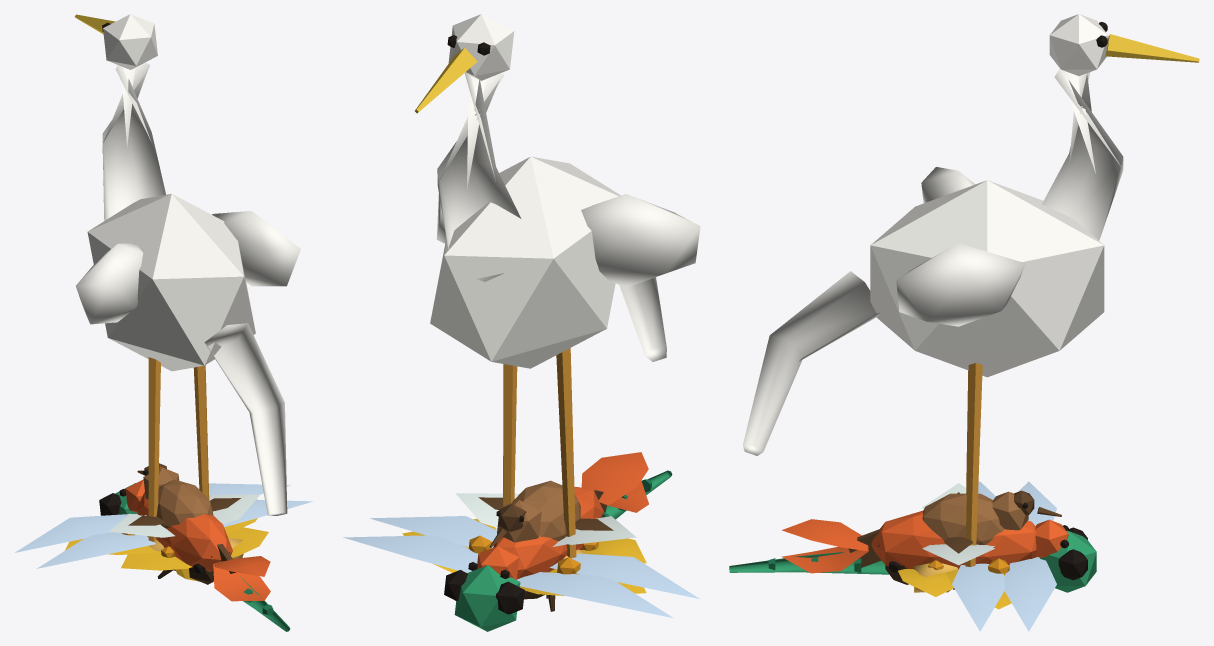
The model's file is critters-ad64ab108c.glb.
3 views of the same model, side by side, from view 1: azimuth 30°, elevation 25°; view 2: azimuth 150°, elevation 25°; view 3: azimuth 270°, elevation 25° (orthographic). The views are drawn at different scales.
Parts seen in each view (by area): view 1: critter__co_trang__mac_dinh, sway_0.12, sway_1.1, critter__ca_chep__mac_dinh, critter__chim_se__mac_dinh, sway_0.75, sway_0.7, sway_0.9, critter__chuon_chuon__mac_dinh, critter__ong__mac_dinh, sway_0.5; view 2: critter__co_trang__mac_dinh, sway_1.1, sway_0.12, critter__chuon_chuon__mac_dinh, critter__chim_se__mac_dinh, critter__ca_chep__mac_dinh, sway_0.7, sway_0.75, sway_0.9, sway_0.5; view 3: critter__co_trang__mac_dinh, sway_0.12, critter__ca_chep__mac_dinh, sway_1.1, critter__chim_se__mac_dinh, critter__chuon_chuon__mac_dinh, sway_0.7, sway_0.75, sway_0.9.
Part boxes in pixels (<box>): critter__co_trang__mac_dinh: <box>74,14,287,541</box>; sway_0.12: <box>76,211,300,324</box>; sway_1.1: <box>15,483,312,568</box>; critter__ca_chep__mac_dinh: <box>119,467,243,571</box>; critter__chim_se__mac_dinh: <box>137,463,235,573</box>; sway_0.75: <box>65,499,268,570</box>; sway_0.7: <box>213,556,270,601</box>; sway_0.9: <box>109,494,260,537</box>; critter__chuon_chuon__mac_dinh: <box>99,483,290,631</box>; critter__ong__mac_dinh: <box>157,563,213,584</box>; sway_0.5: <box>128,498,240,525</box>; critter__co_trang__mac_dinh: <box>415,14,666,558</box>; sway_1.1: <box>343,516,699,618</box>; sway_0.12: <box>436,194,700,287</box>; critter__chuon_chuon__mac_dinh: <box>444,470,672,631</box>; critter__chim_se__mac_dinh: <box>489,480,606,547</box>; critter__ca_chep__mac_dinh: <box>468,486,603,579</box>; sway_0.7: <box>581,452,648,512</box>; sway_0.75: <box>402,518,646,595</box>; sway_0.9: <box>456,493,636,544</box>; sway_0.5: <box>478,497,613,530</box>; critter__co_trang__mac_dinh: <box>743,14,1199,566</box>; sway_0.12: <box>896,167,1025,326</box>; critter__ca_chep__mac_dinh: <box>871,492,1068,592</box>; sway_1.1: <box>952,481,1056,631</box>; critter__chim_se__mac_dinh: <box>848,490,1061,567</box>; critter__chuon_chuon__mac_dinh: <box>729,527,1096,592</box>; sway_0.7: <box>781,519,868,573</box>; sway_0.75: <box>898,558,1011,609</box>; sway_0.9: <box>922,483,994,565</box>.
Size of the model in its own units: 0.6221 by 1.13 by 0.8211.
